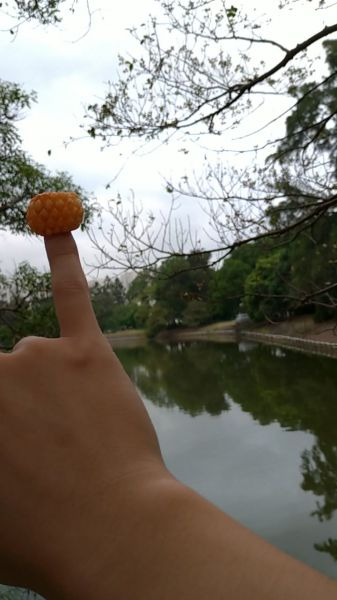eggs: (26, 191, 86, 235)
